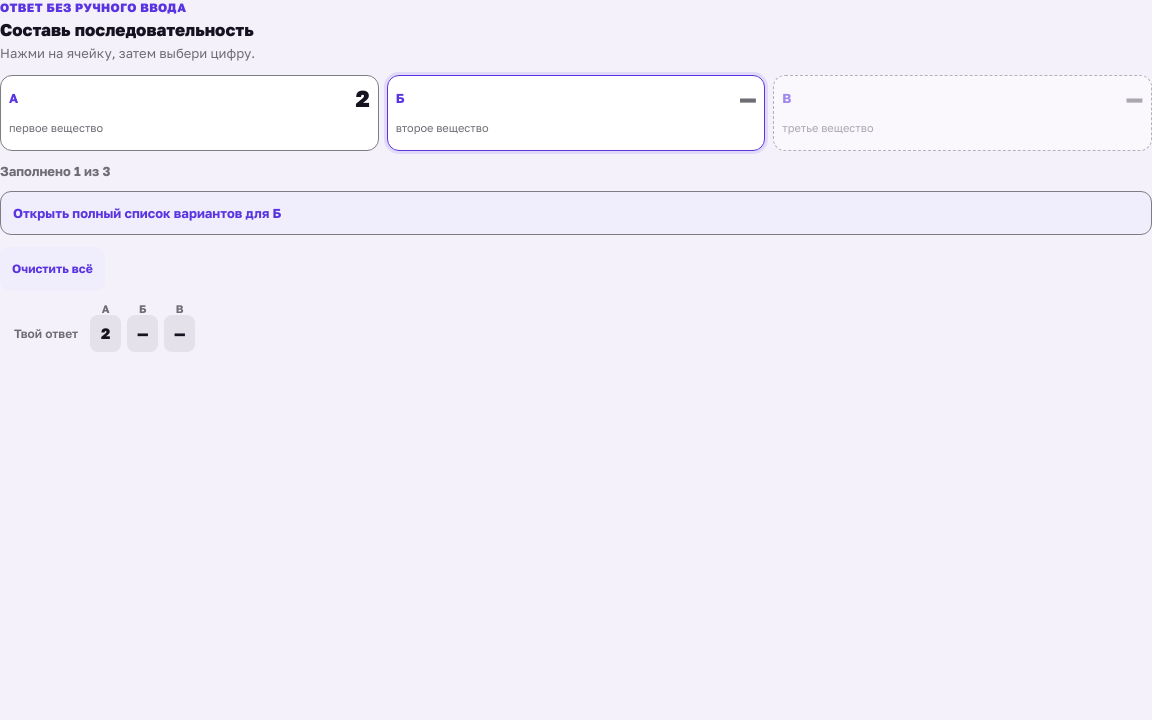
Scenario: contract-4 sequence question › blocks reused chips when reuse is disabled
Click the button with class "sequence-answer-cell" showing "А 2 первое вещество" at (56,127), box top-left (0, 75), bottom-right (379, 151)
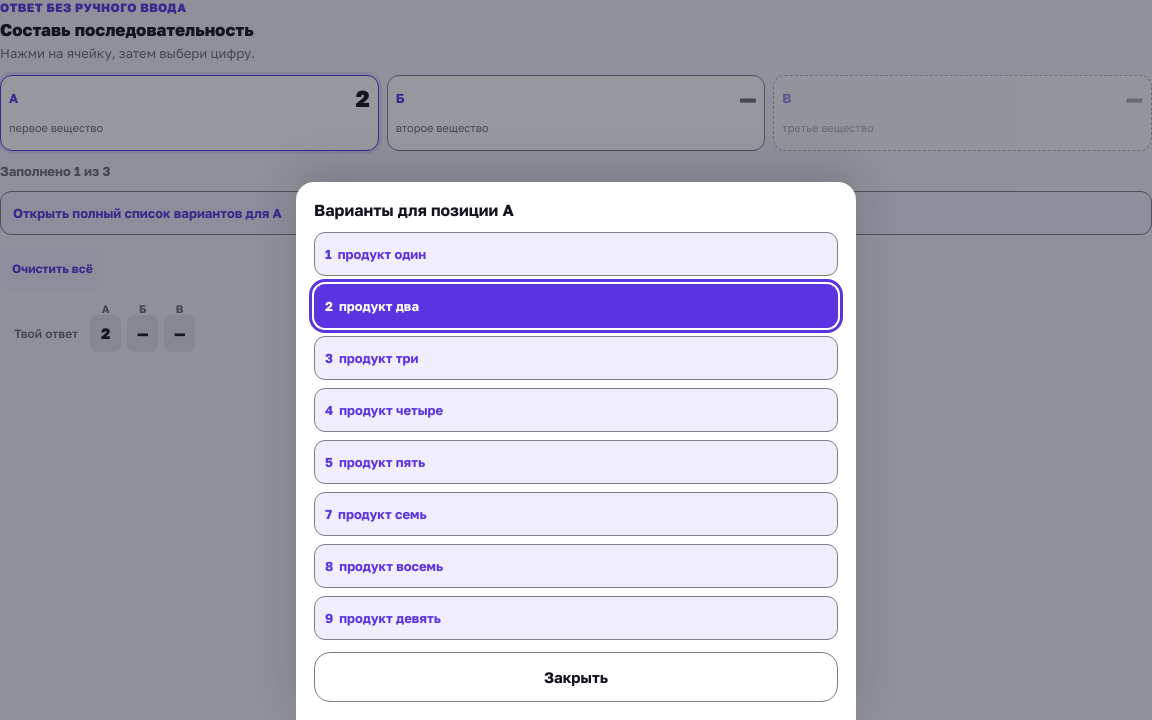
Click the radio button labelled "2 продукт два" at (379,306), box top-left (314, 284), bottom-right (838, 328)
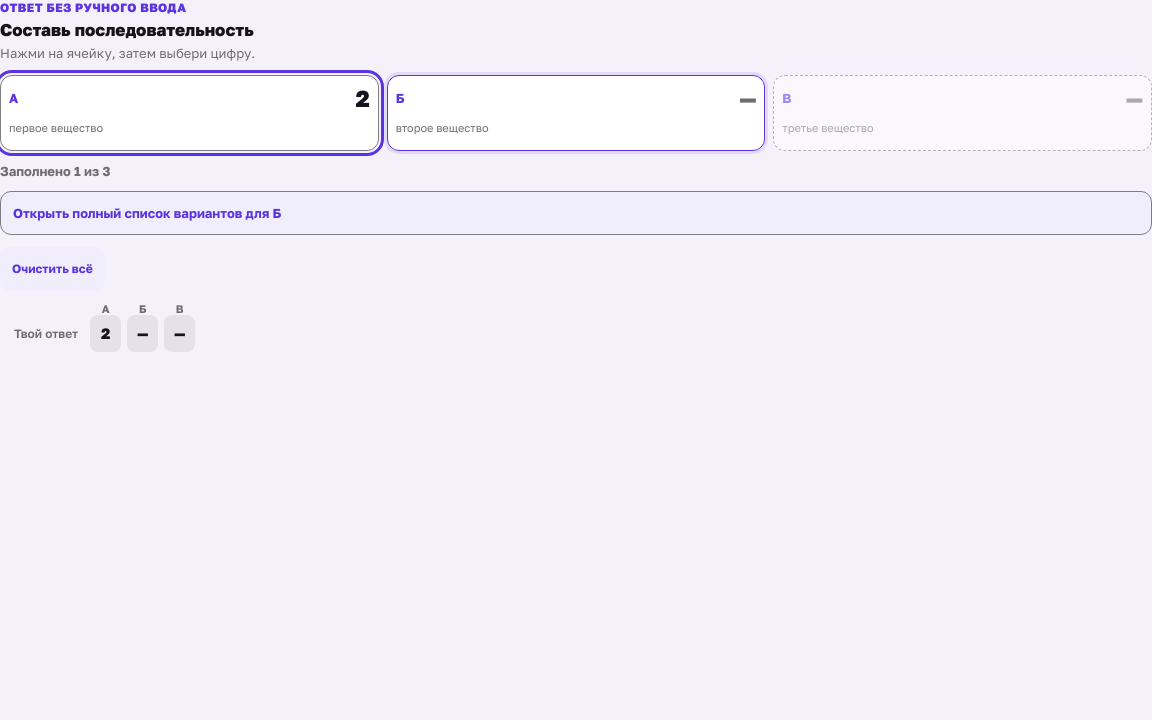
Click the button with class "sequence-answer-cell" showing "Б — второе вещество" at (442,127), box top-left (387, 75), bottom-right (765, 151)
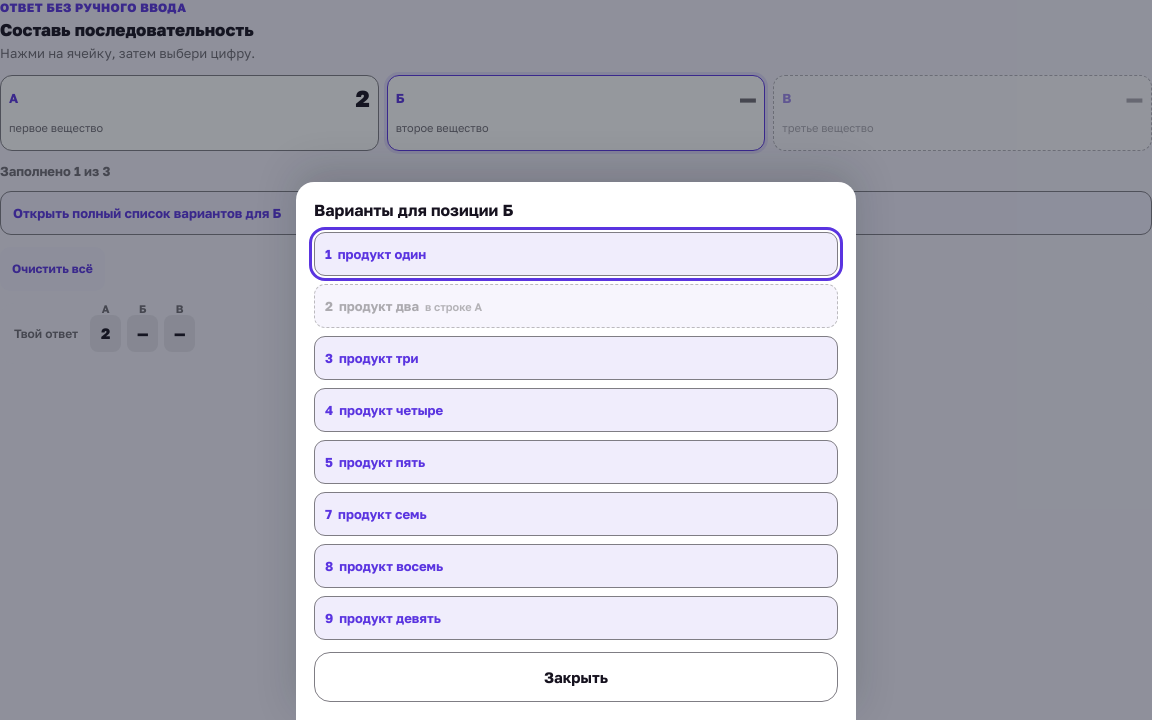
Now the radio button labelled "2 продукт два в строке А" is disabled, box top-left (314, 284), bottom-right (838, 328)
Now the radio button labelled "7 продукт семь" is enabled, box top-left (314, 492), bottom-right (838, 536)
